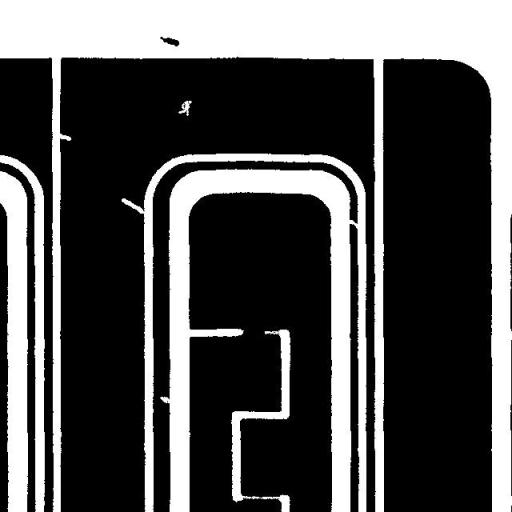copper: (152, 28, 186, 54)
mousebite: (114, 190, 154, 221), (49, 126, 78, 148), (152, 389, 178, 410)
open: (338, 211, 366, 236)
pin-hole: (170, 93, 200, 123)
short: (235, 320, 272, 342)
